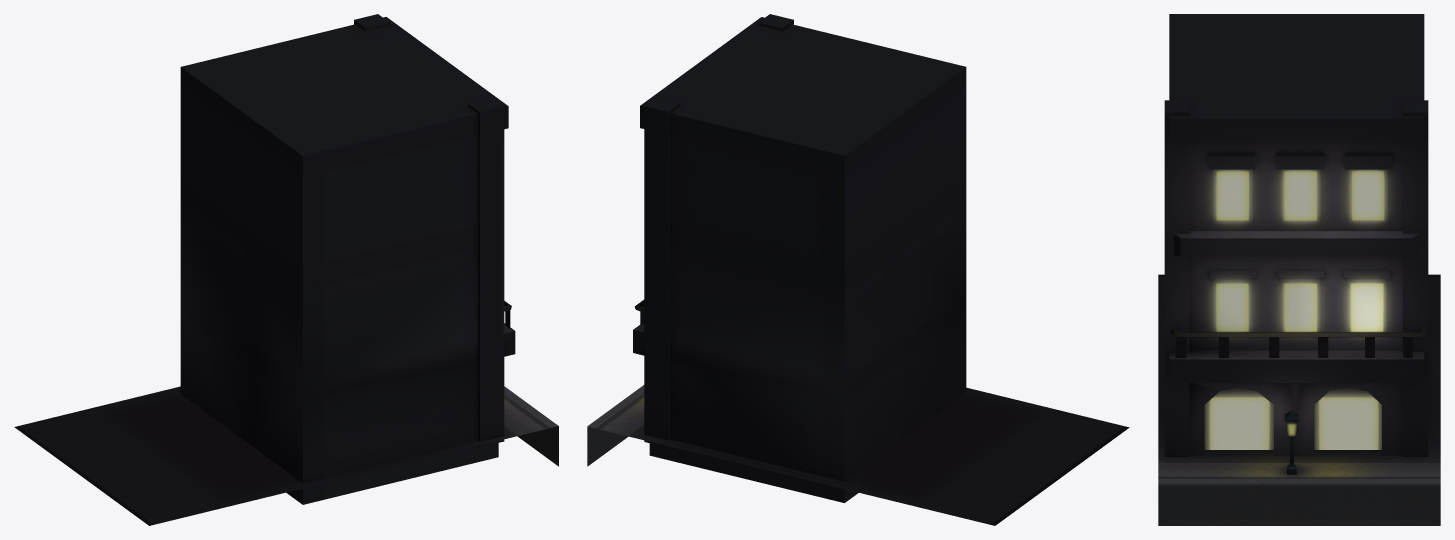
3 views of the same model, side by side, from view 1: azimuth 30°, elevation 25°; view 2: azimuth 150°, elevation 25°; view 3: azimuth 270°, elevation 25° (orthographic). The views are drawn at different scales.
Parts seen in each view (by area): view 1: modelB001; view 2: modelB001; view 3: modelB001.
Boxes of the visible parts, x1,y1,x2,y2 form: modelB001: [14, 14, 558, 525]; modelB001: [587, 14, 1129, 525]; modelB001: [1158, 14, 1440, 525].
Size of the model in its own units: 276 by 238 by 157.
Materials: 1 (1 with a texture image).
